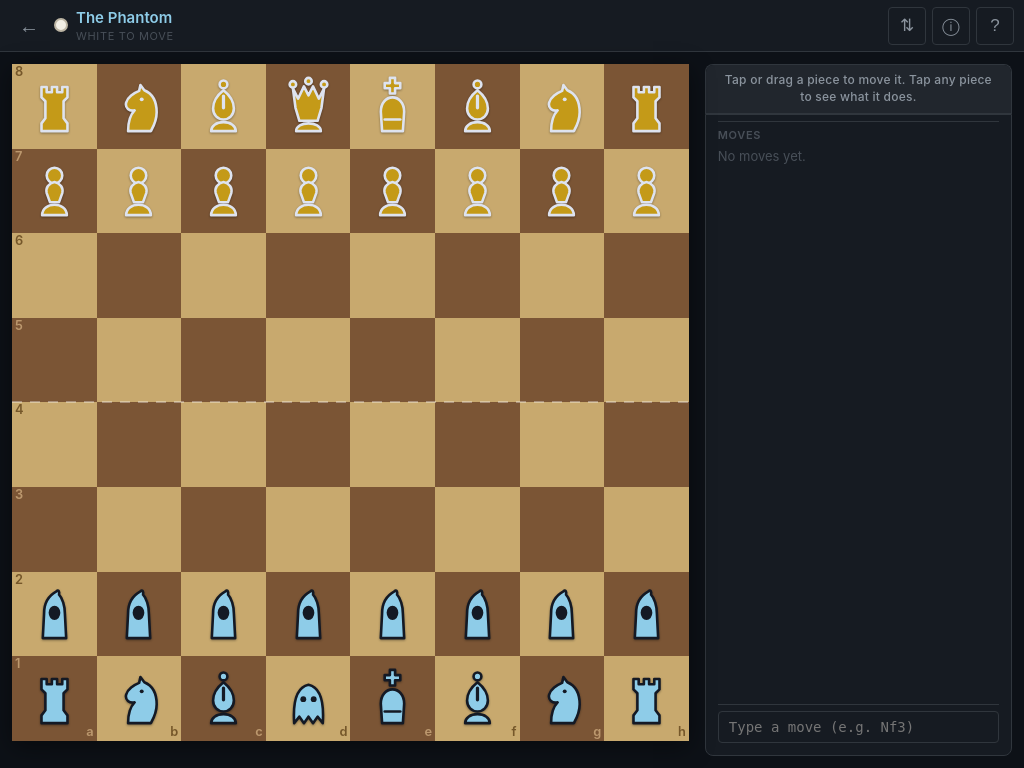
it: army info sheet › opens from the header button, lists both armies, and closes
Click the button with test id "army-info-btn". click: (951, 26)
box: x1=932 y1=6 x2=970 y2=44
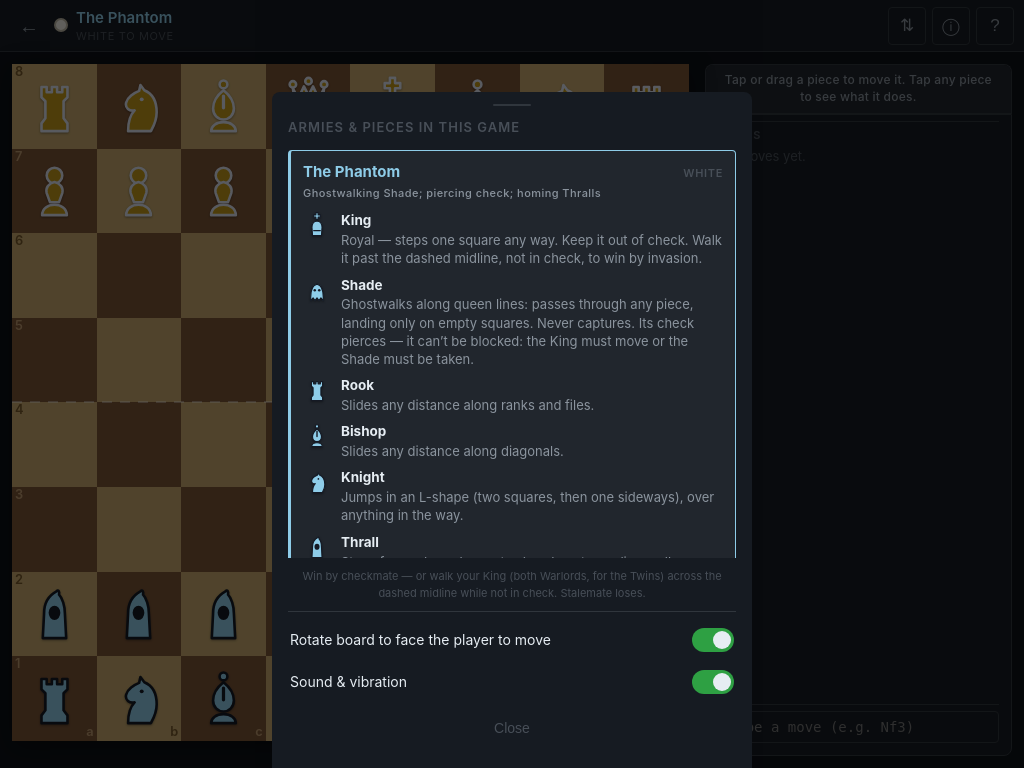
Check: the element with test id "army-info-sheet" is shown
Check: the element with test id "army-info-sheet" shows "The Phantom", box x1=303 y1=162 x2=400 y2=181
Check: the element with test id "army-info-sheet" shows "midline", box x1=341 y1=232 x2=722 y2=266
Click the button with test id "army-info-close". click: (512, 728)
box: x1=288 y1=712 x2=736 y2=744
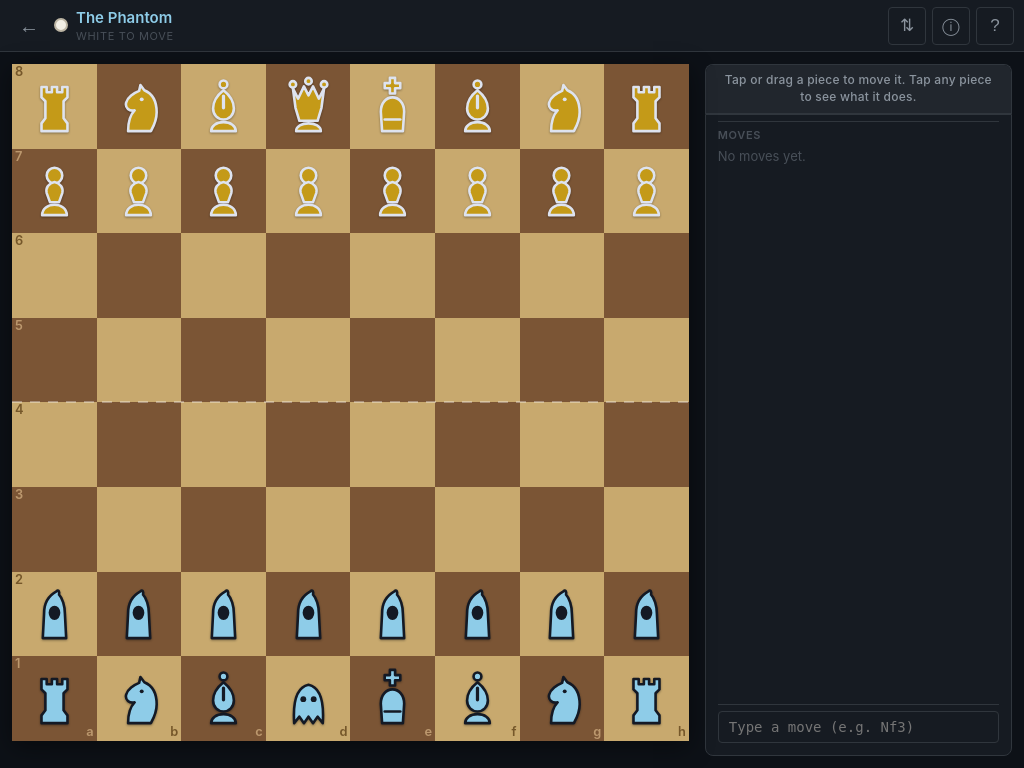
Check: the element with test id "army-info-sheet" is gone
